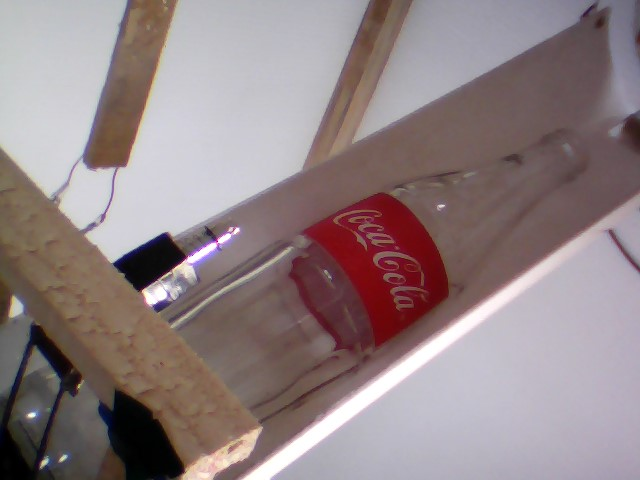vidrio: (170, 124, 597, 424)
